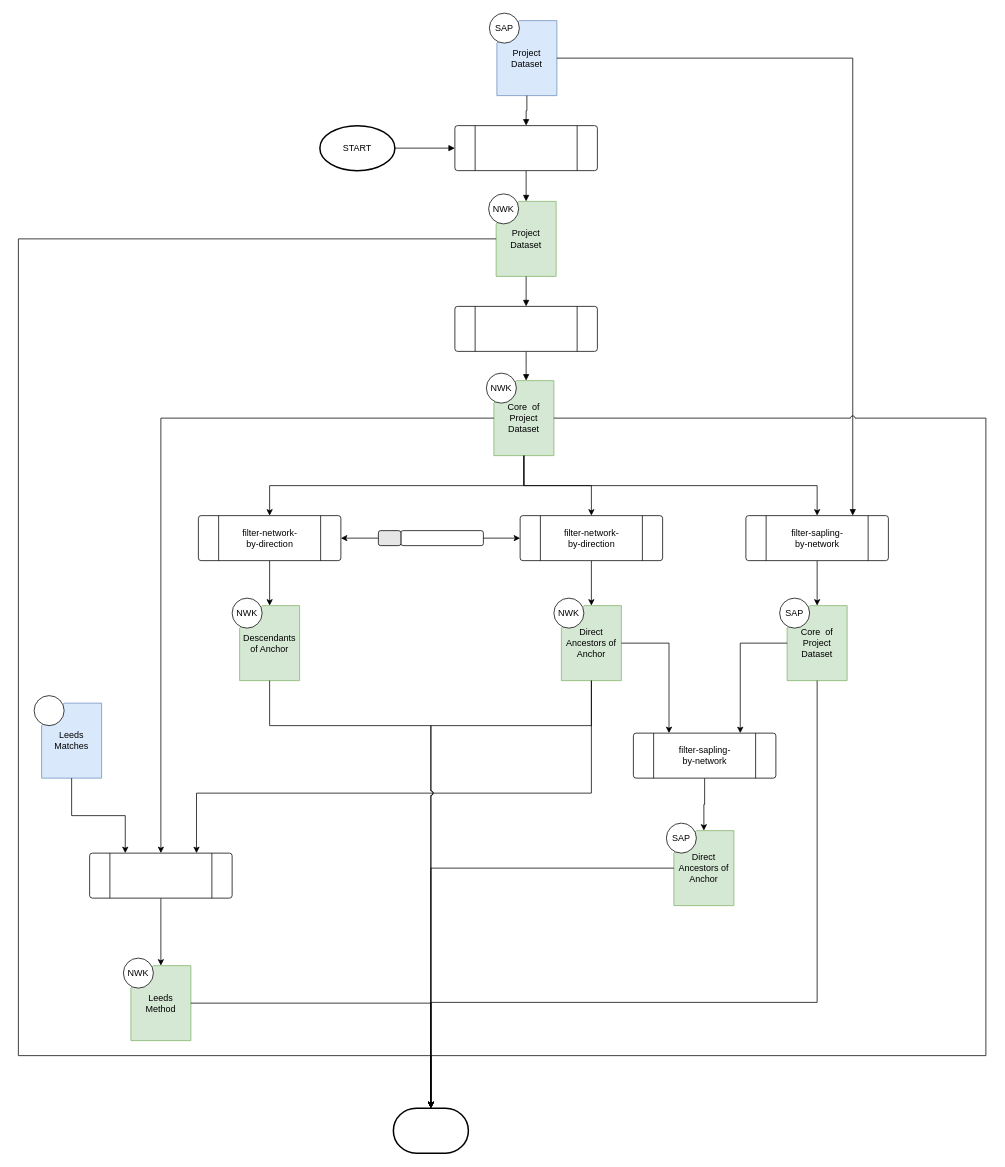
Some shapes in this 1005 by 1167 pixel diagram are drawn without their labels. Each missing label, with the centre of its shape:
anchor-person-id: (x=441, y=538)
create-leeds-method-network: (x=160, y=875)
END: (x=430, y=1130)
filter-network- to-largest-sub-network: (x=525, y=328)
LEE: (x=48, y=710)
sapling-to- family-tree-network: (x=525, y=148)
var: (x=389, y=538)
